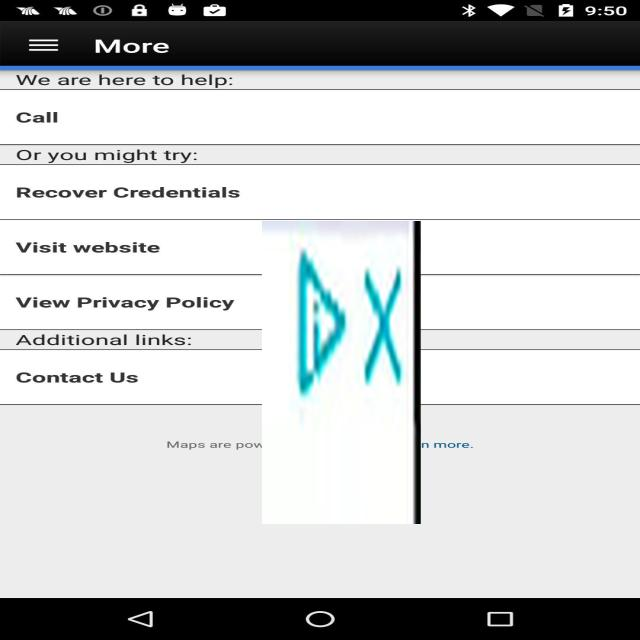sneaking: (262, 221, 421, 524)
